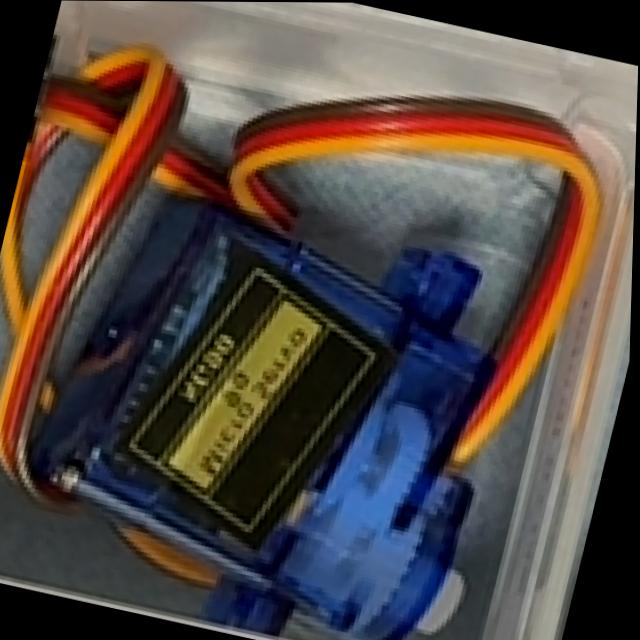Servo motor: (15, 175, 546, 640)
